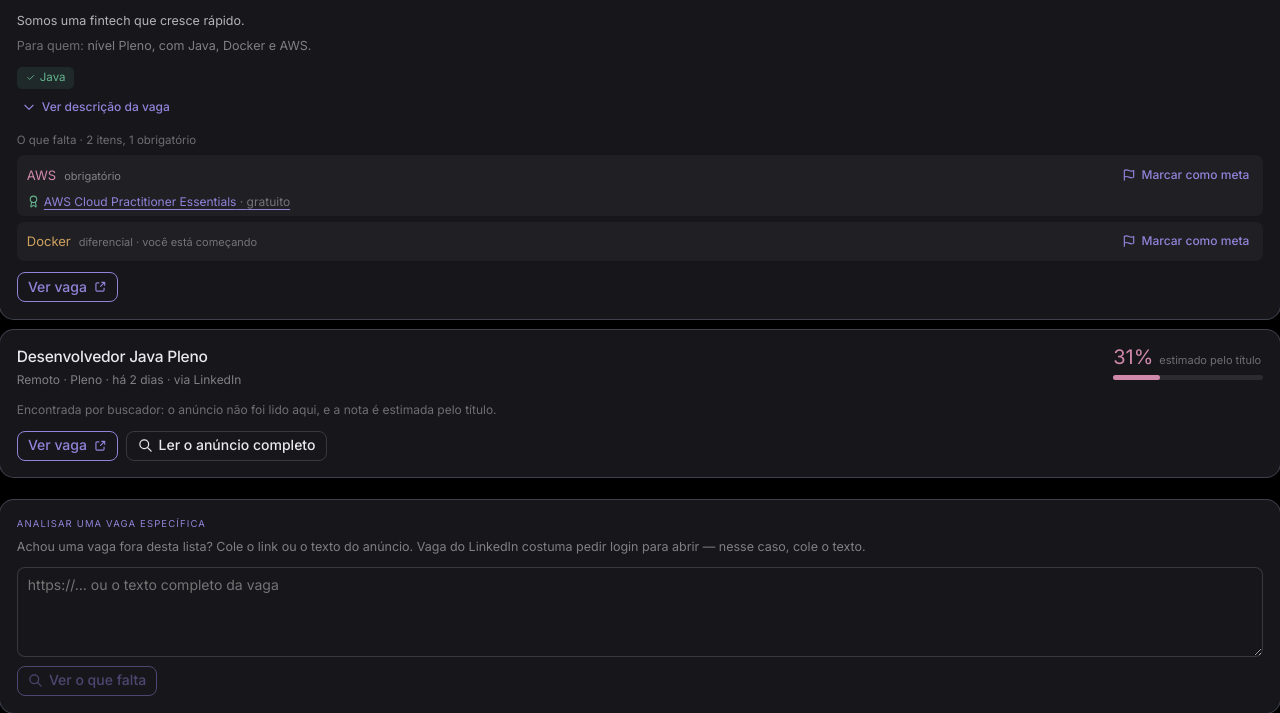
vagas › analisa uma vaga colada pelo link
This screenshot has width=1280, height=713.
(page scrolled)
Type "https://www.vagas.com.br/vagas/v123" into the text box named "Link ou texto da vaga" at (640, 612), box [17, 568, 1263, 658]
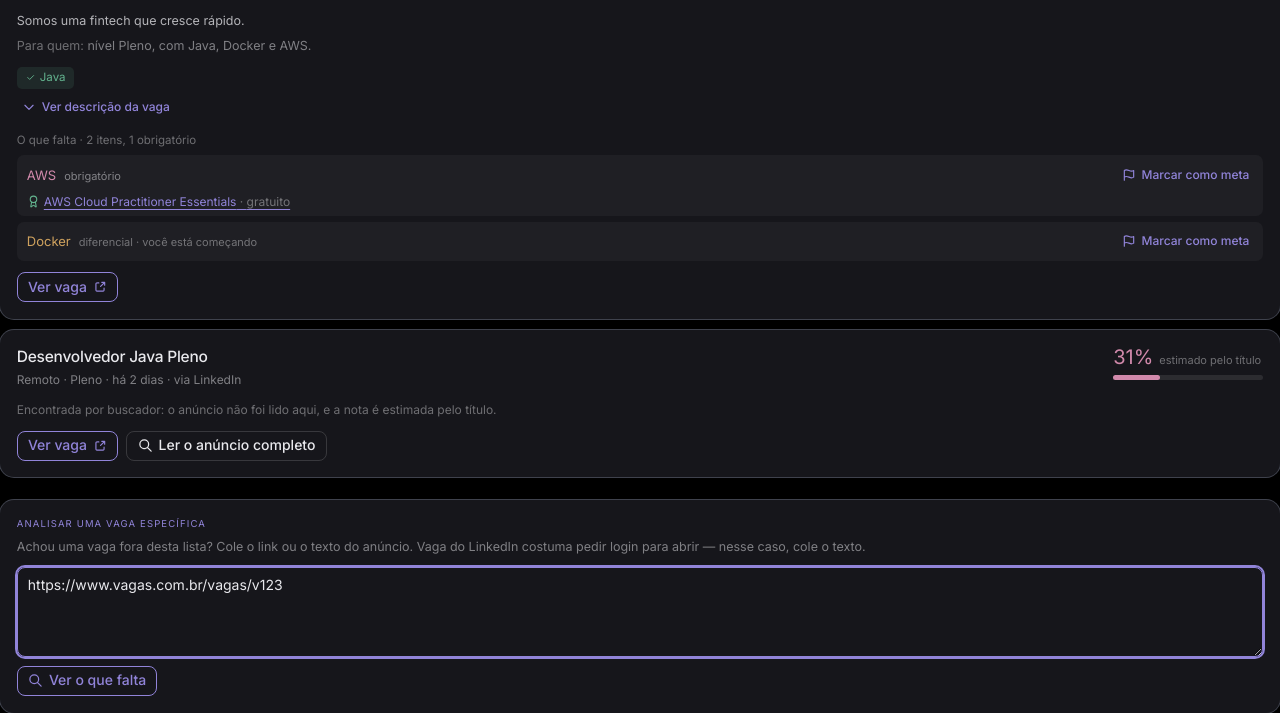
Click the button "Ver o que falta" at (87, 681), box [17, 666, 157, 696]
(page scrolled)
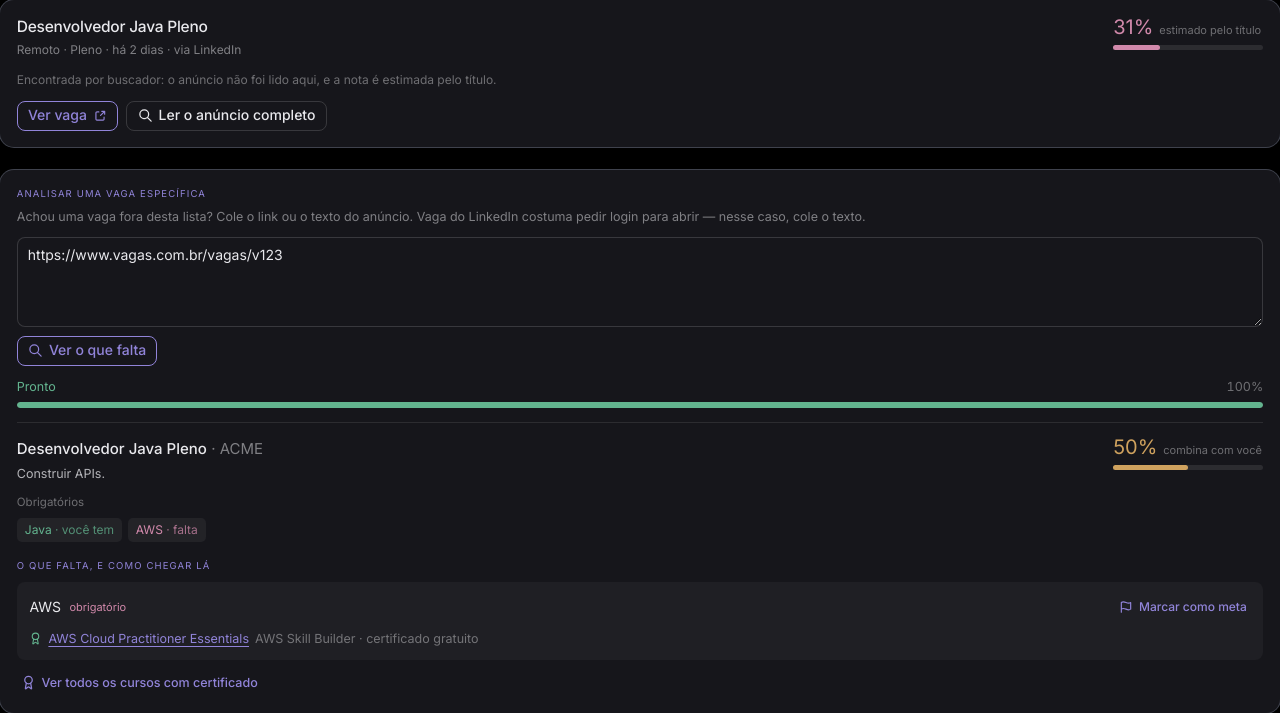
Now the element named "Análise completa da vaga" is shown, box [17, 437, 1263, 696]
